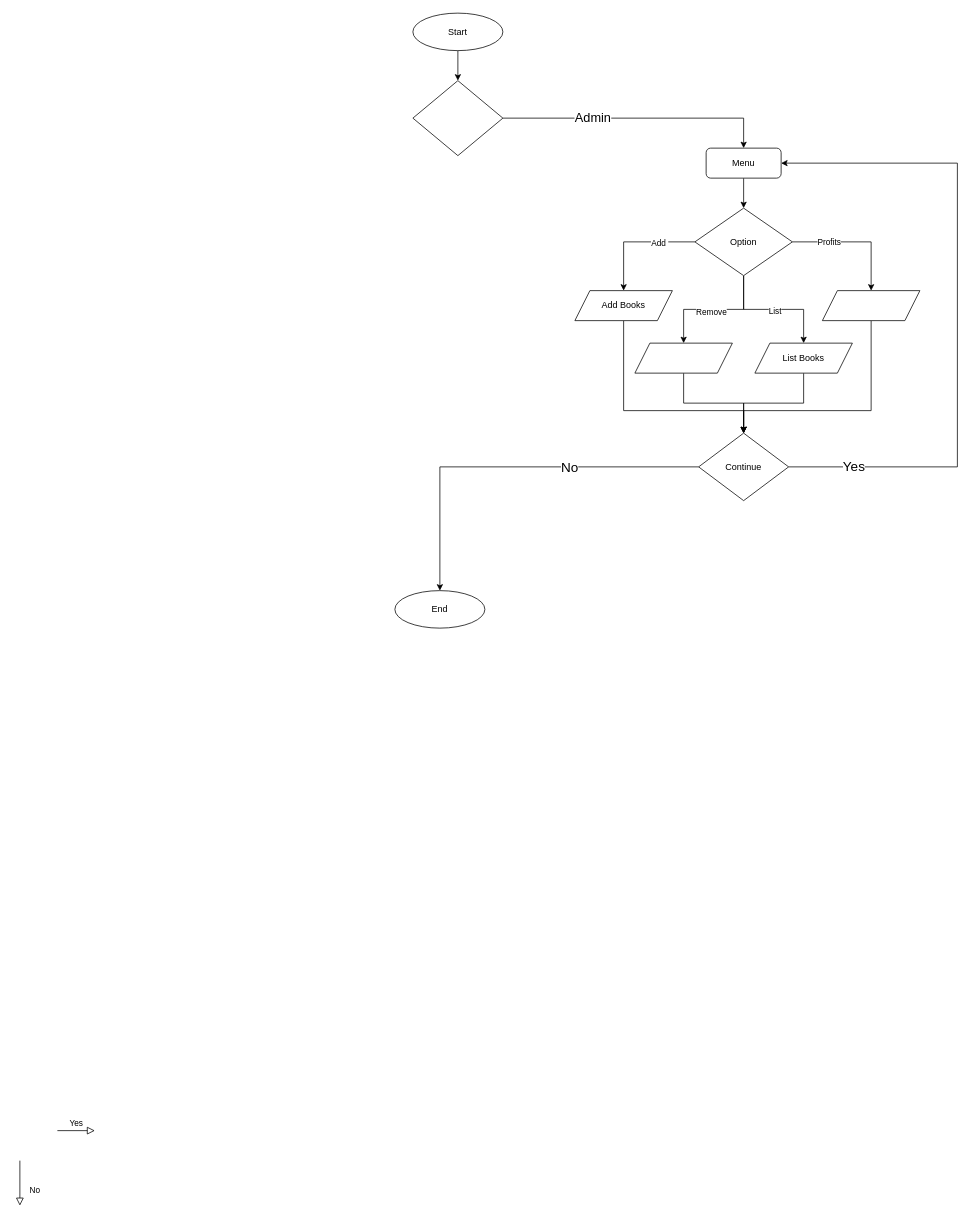
This 977x1226 diagram has some shape labels left out. The centre of each missing label's shape, as x and y in pixels:
"Admin or Client" belongs at [457,118].
"Remove Books" belongs at [683,357].
"See Profits" belongs at [871,305].
